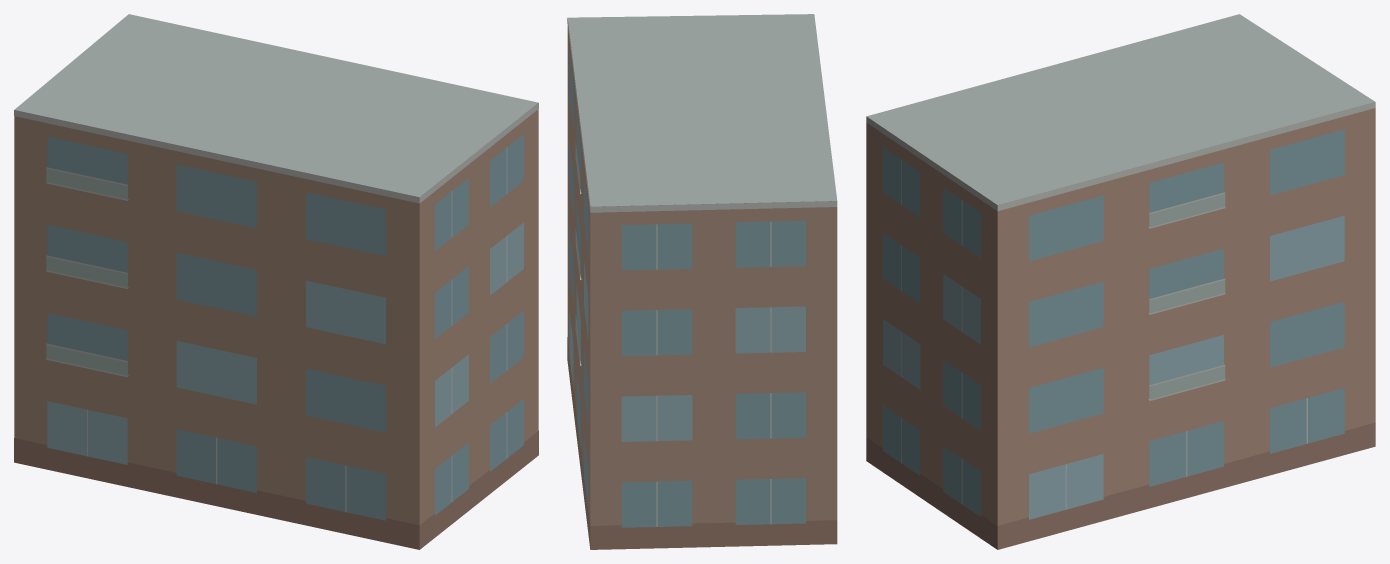
File: survey-upis-32710601.glb
3 views of the same model, side by side, from view 1: azimuth 30°, elevation 25°; view 2: azimuth 150°, elevation 25°; view 3: azimuth 270°, elevation 25° (orthographic). The views are drawn at different scales.
Visible parts, largest first — view 1: survey-upis-32710601.tmp; view 2: survey-upis-32710601.tmp; view 3: survey-upis-32710601.tmp.
Part boxes in pixels (x1,y1,x2,y2): survey-upis-32710601.tmp: (14,14,538,549); survey-upis-32710601.tmp: (567,14,837,549); survey-upis-32710601.tmp: (866,14,1375,549).
Size of the model in its own units: 16.49 by 13.85 by 18.55.
